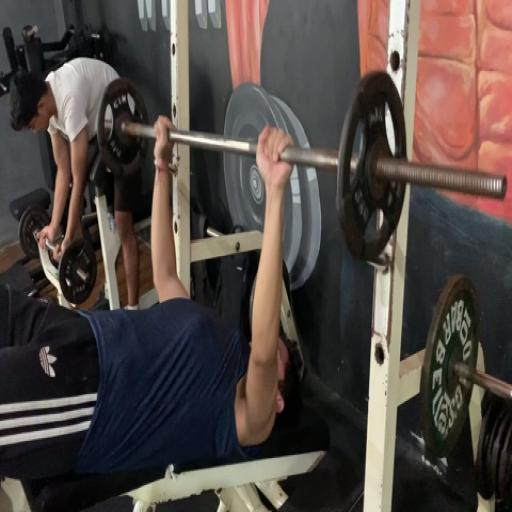exercise: (0, 112, 307, 490), (6, 54, 150, 312)
